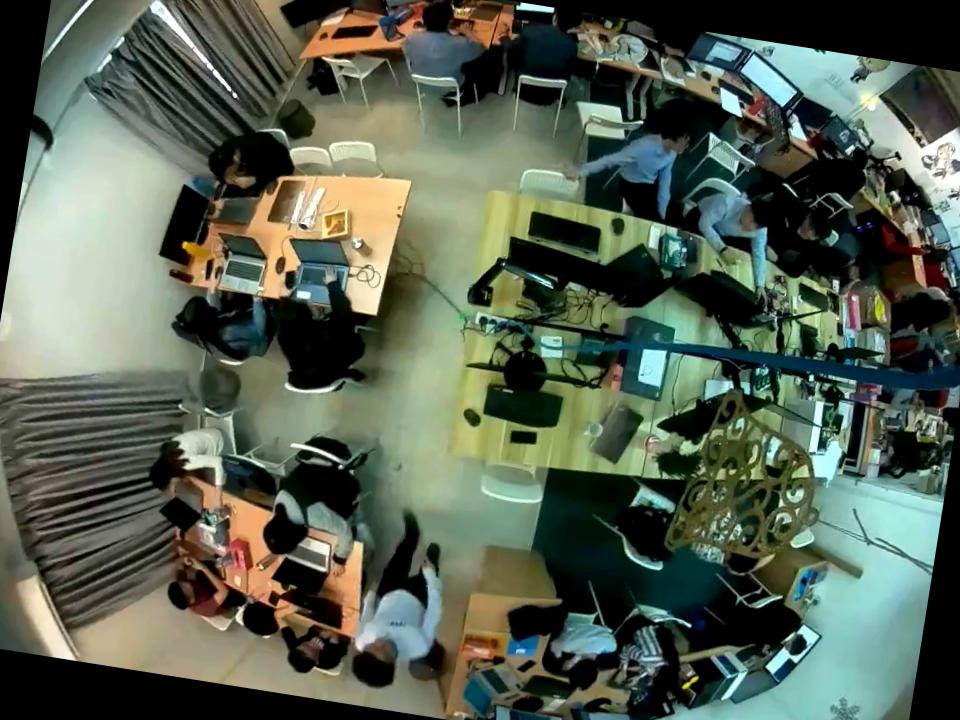employee_tag: (388, 617, 406, 630)
